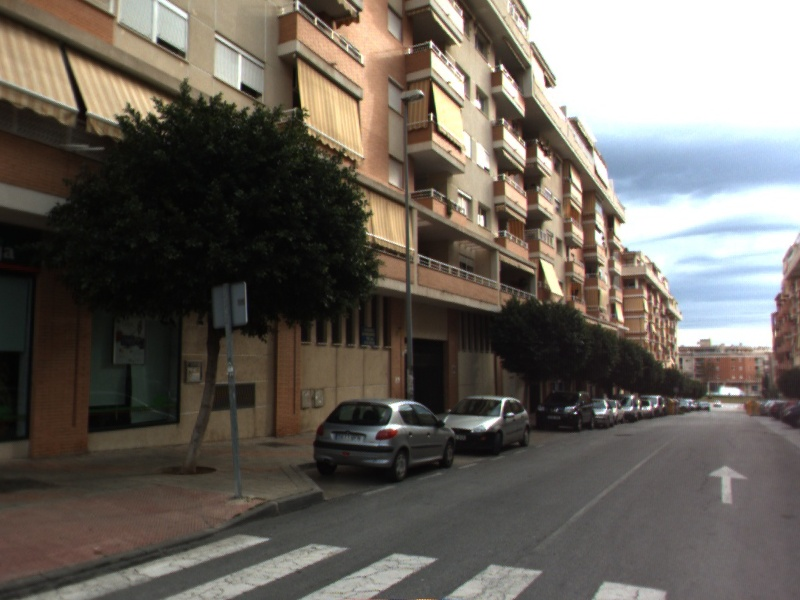STRAIGHT: (706, 463, 751, 505)
